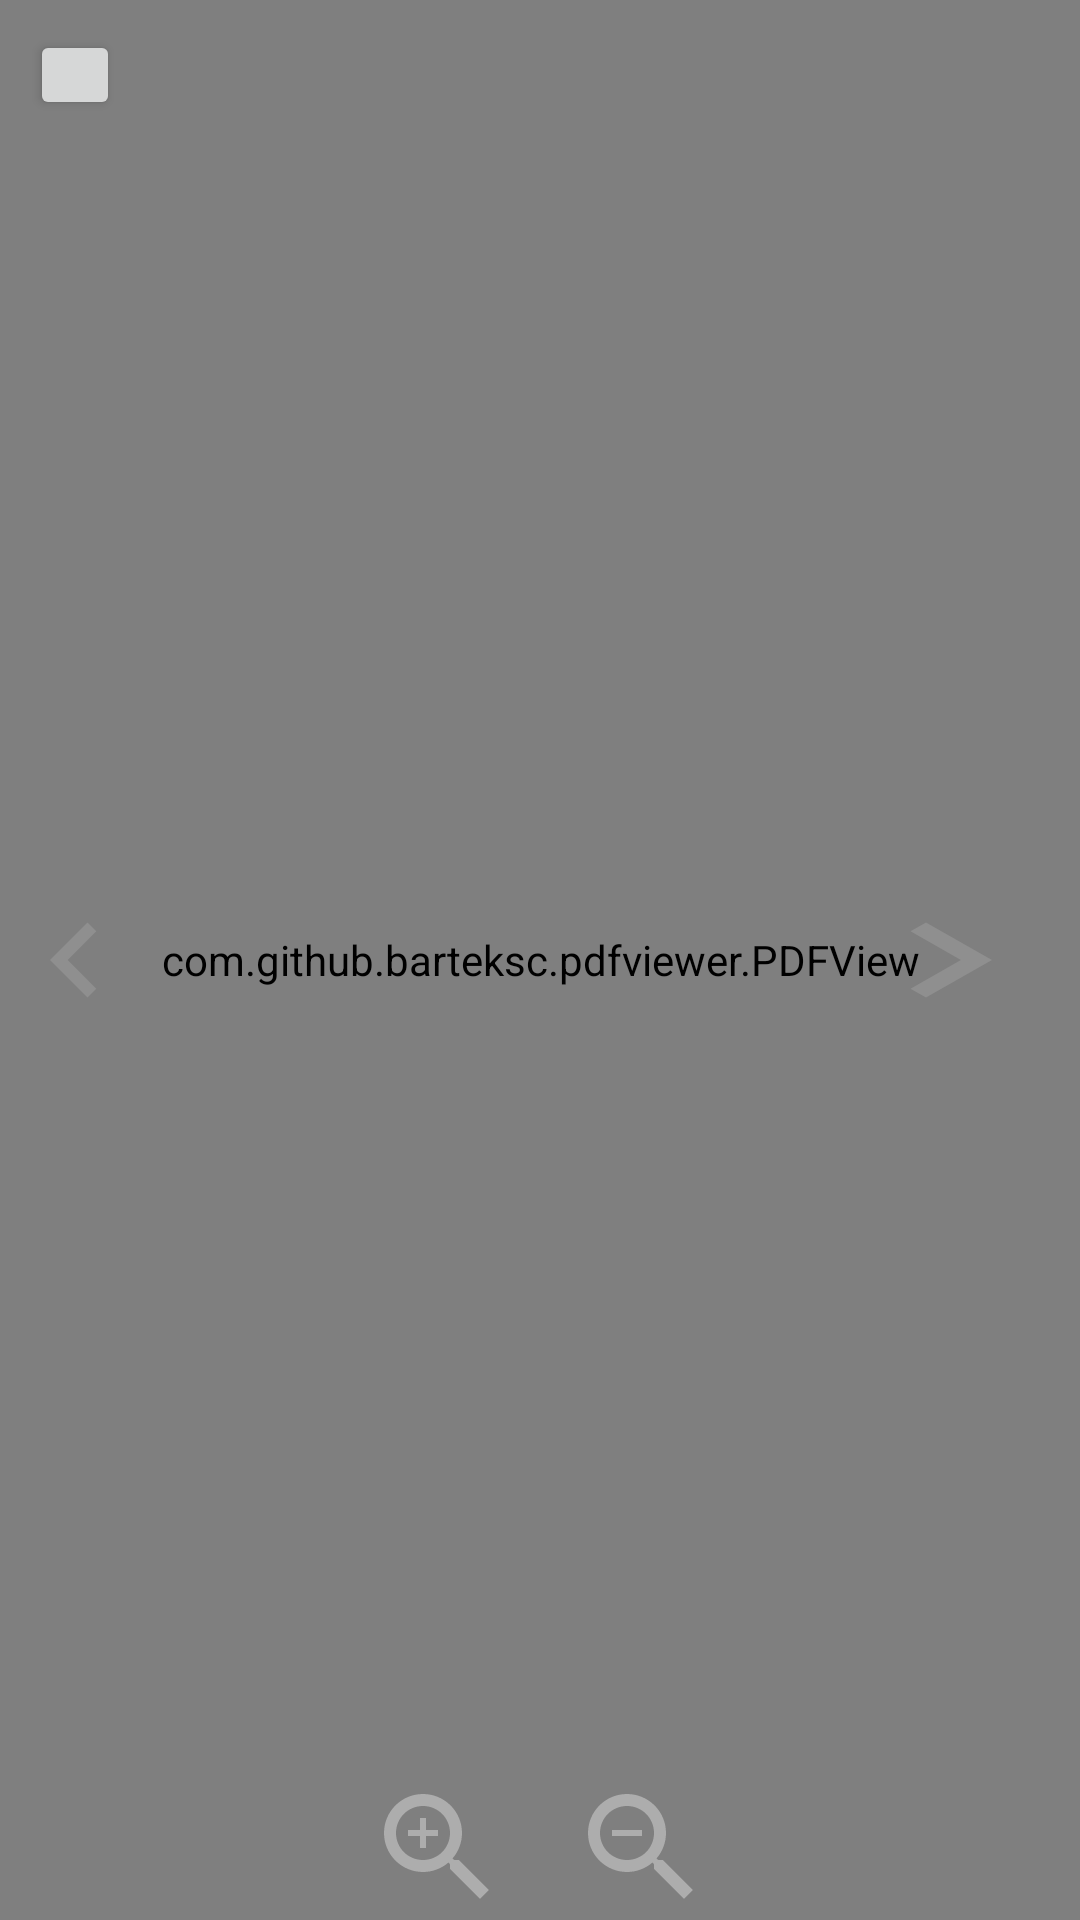

Icons on this 1080px×1920px Android screen, each with its box as (x1, y1, x2, y2):
zoom in: (384, 1794, 488, 1898)
zoom out: (588, 1794, 692, 1898)
